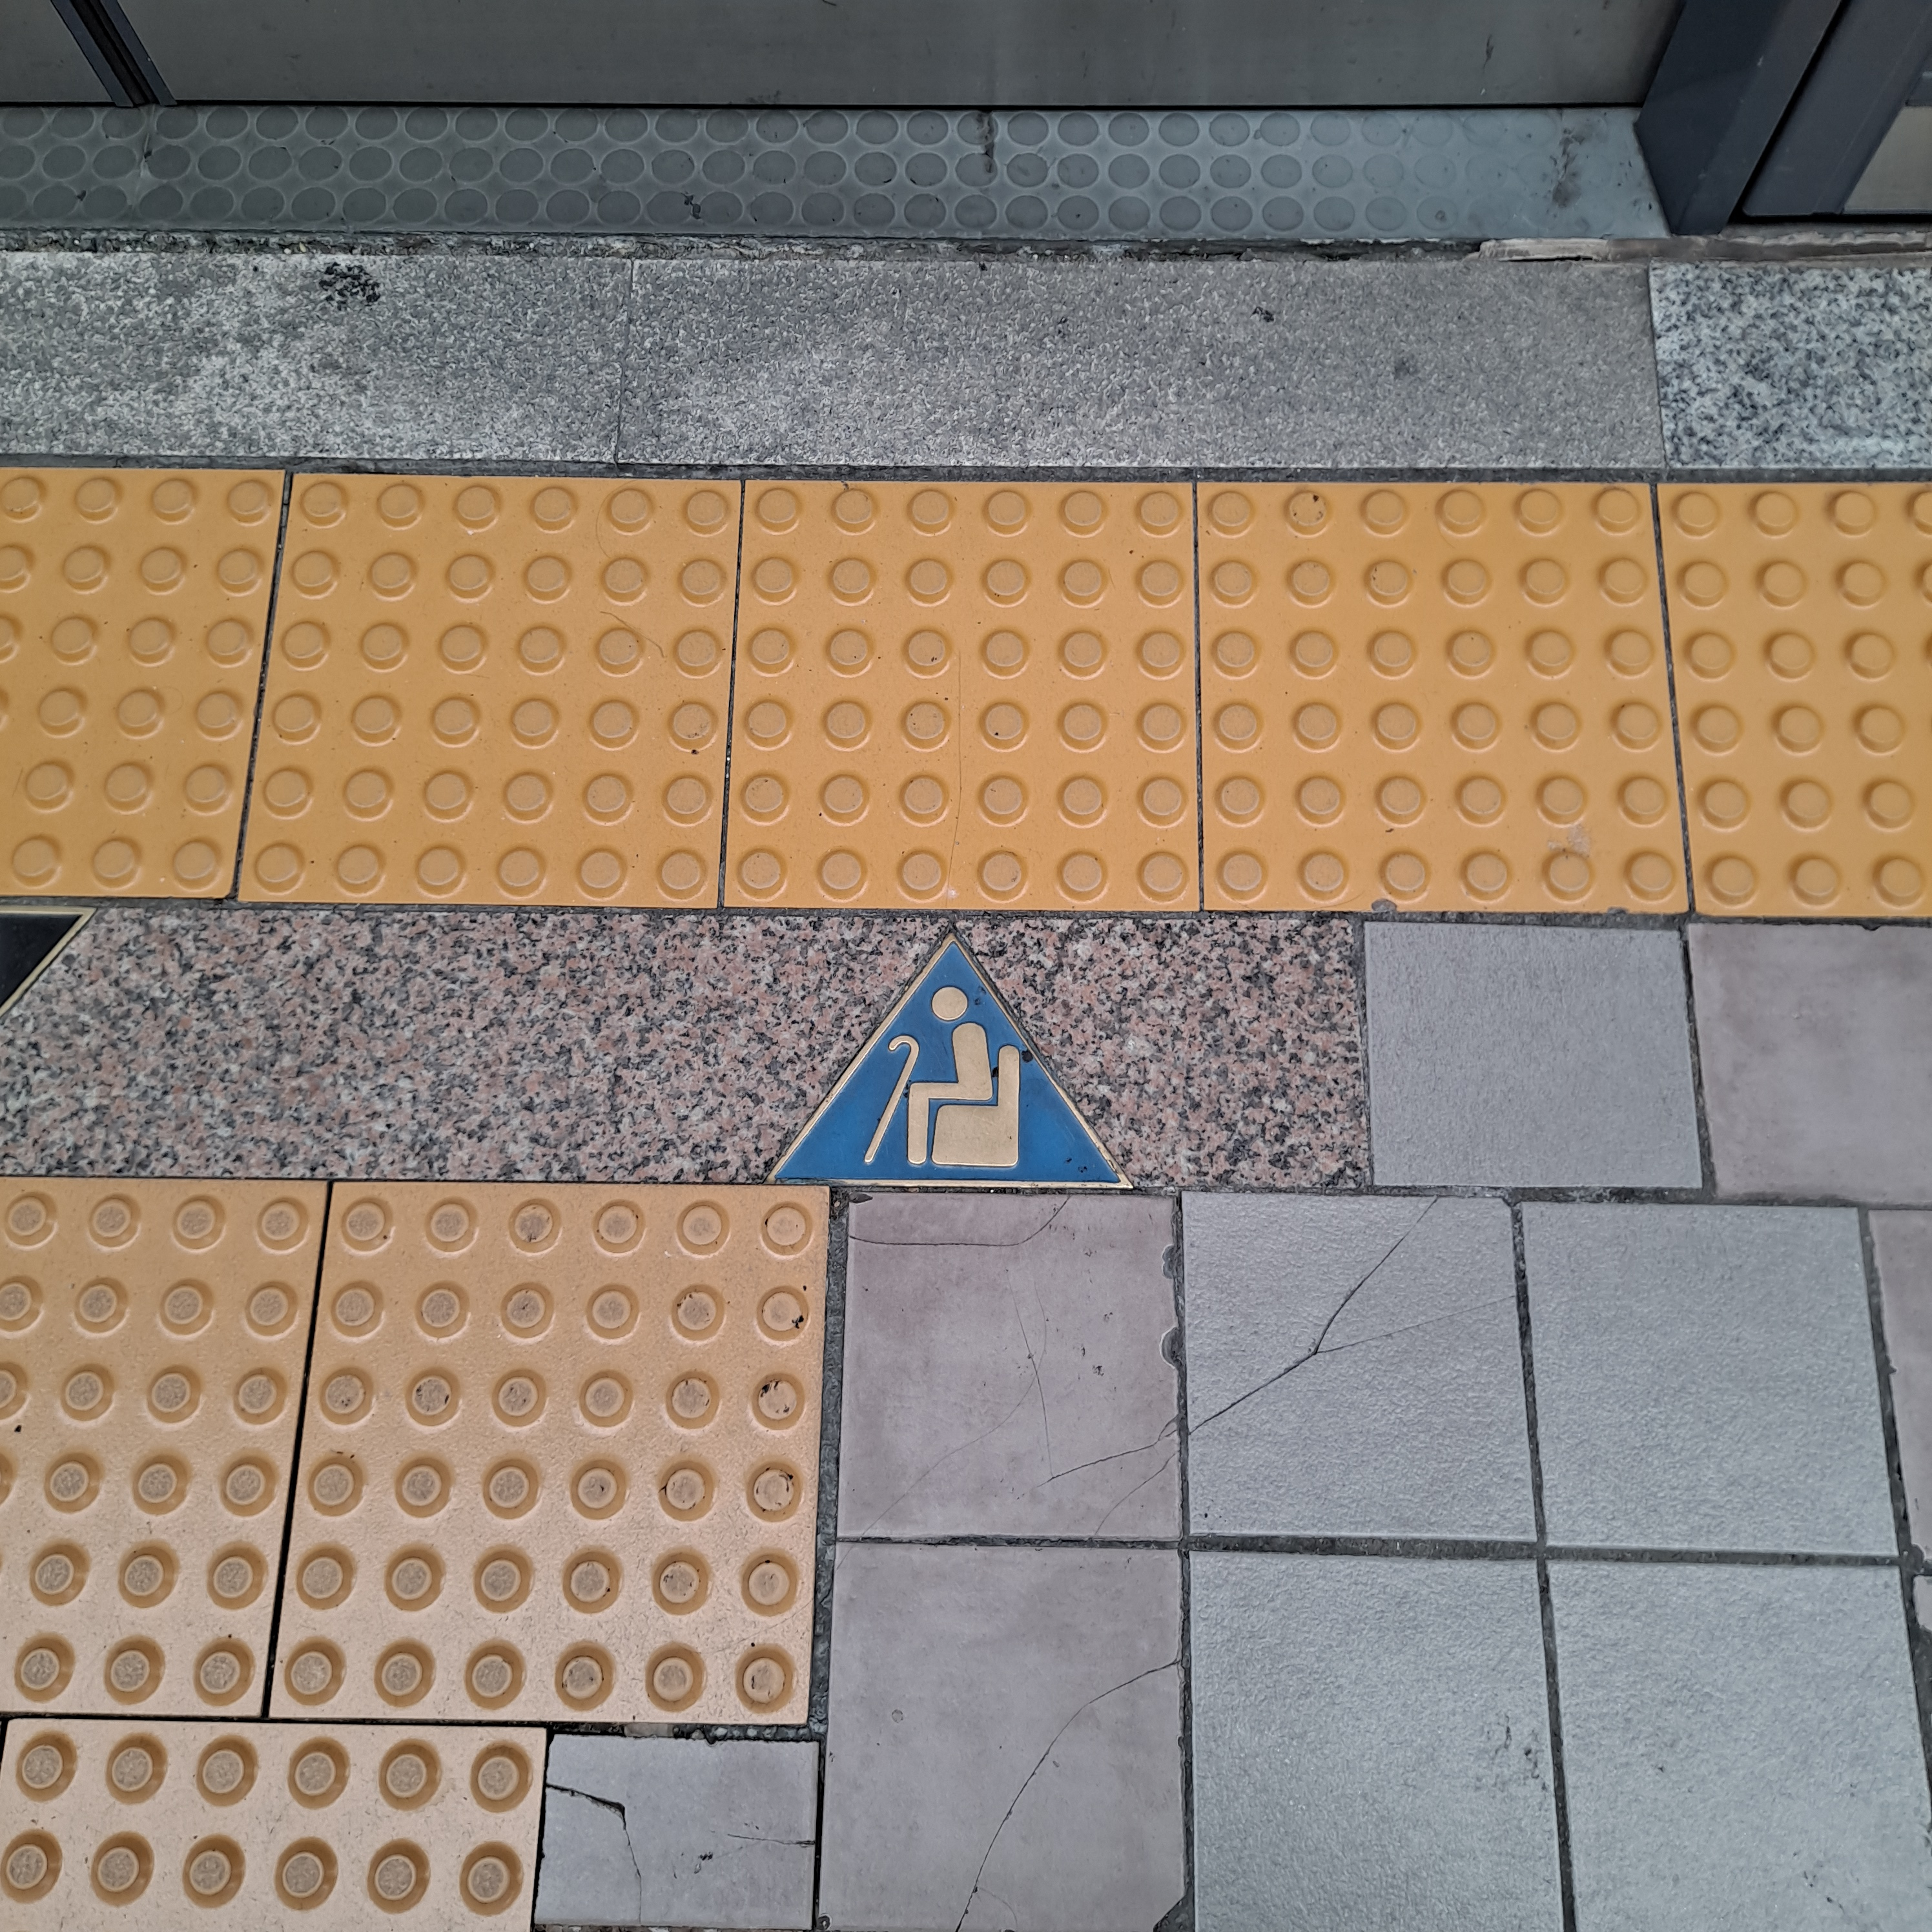warningBlock: (320, 1189, 787, 1707), (732, 469, 1212, 893), (285, 464, 745, 899), (1201, 469, 1674, 888), (9, 1177, 320, 1698), (1674, 488, 1932, 904), (12, 1720, 511, 1913), (7, 469, 249, 856)
